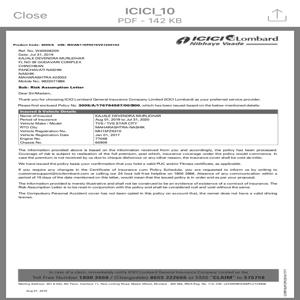image: (171, 29, 279, 46)
text: (13, 40, 267, 108), (17, 147, 279, 205), (18, 109, 186, 146)
